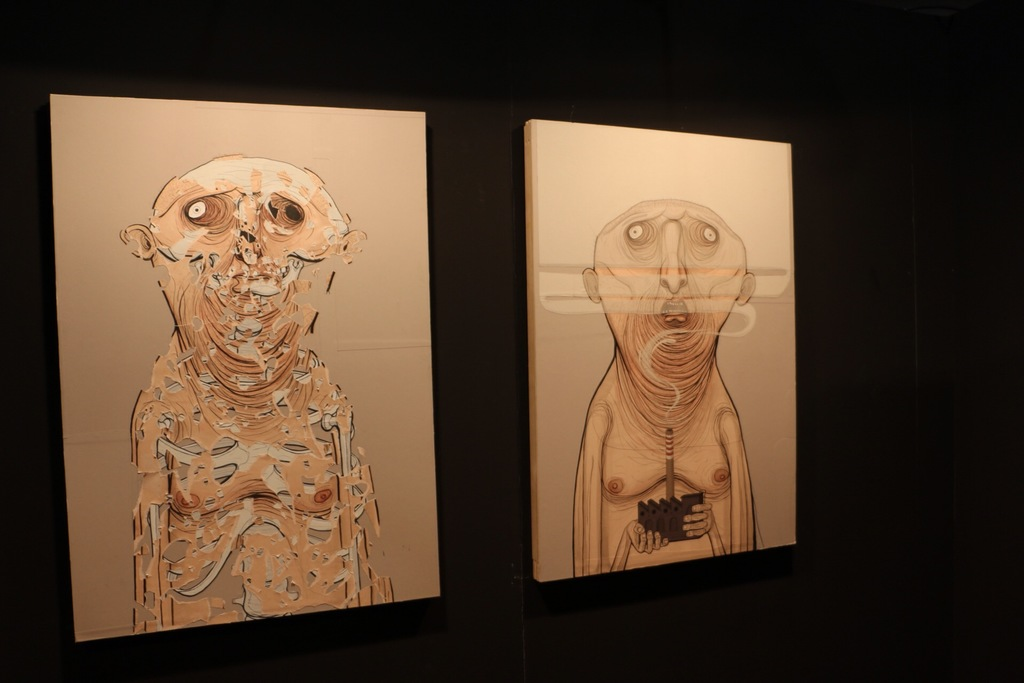Person: (572, 197, 758, 578)
